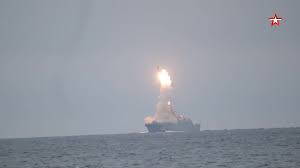tau_muctieu: (138, 104, 206, 134)
ten_lua: (158, 63, 165, 75)
